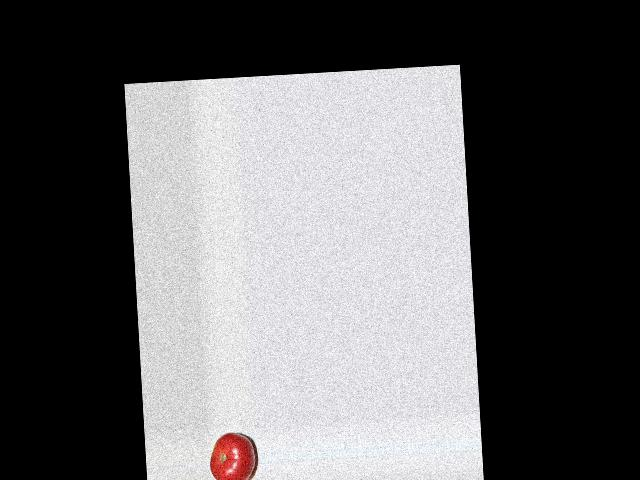tomato: (208, 431, 255, 480)
